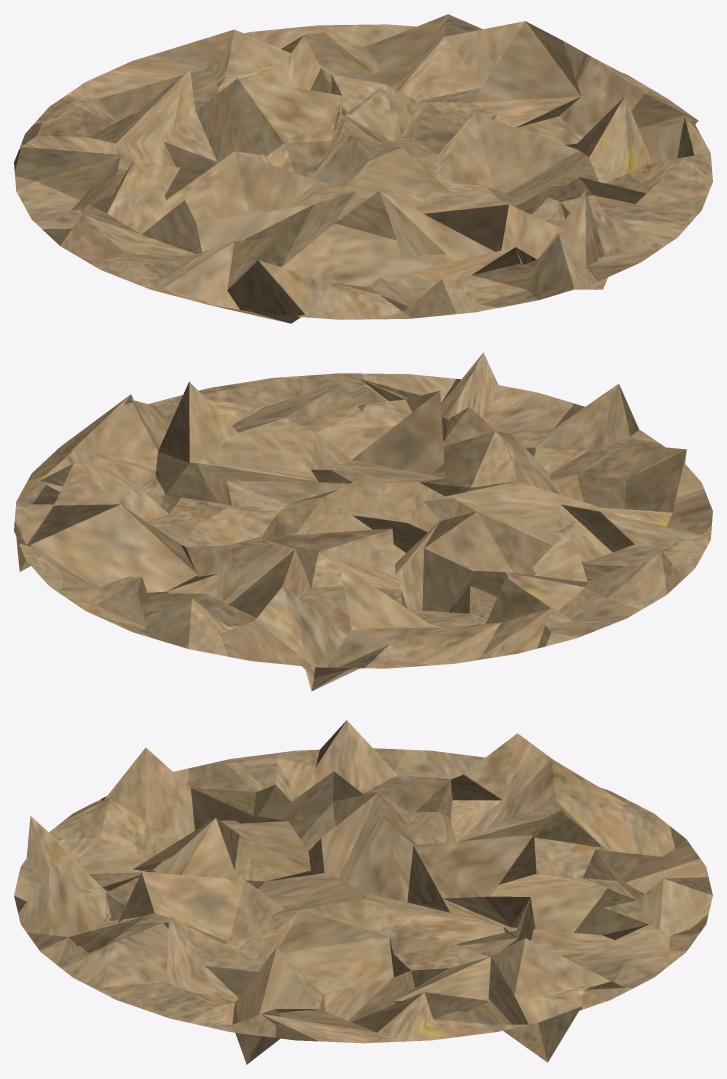
File: triturated.glb
The picture shows the model from 3 angles, top to bottom: view 1: azimuth 30°, elevation 25°; view 2: azimuth 150°, elevation 25°; view 3: azimuth 270°, elevation 25°; orthographic projection.
Visible parts, largest first — view 1: Triturate; view 2: Triturate; view 3: Triturate.
Boxes of the visible parts, bbox=[...] form: Triturate: bbox=[14, 14, 712, 323]; Triturate: bbox=[14, 352, 712, 691]; Triturate: bbox=[14, 720, 712, 1064].
Size of the model in its own units: 0.1017 by 0.0189 by 0.1017.
1 material, 1 textured.
